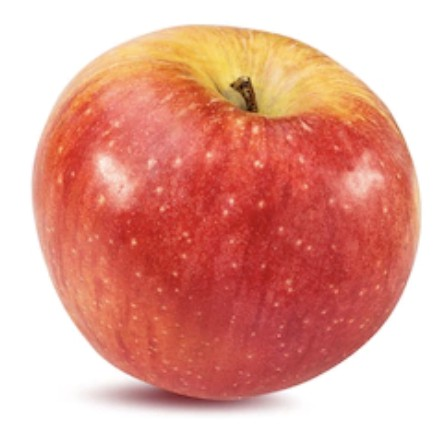fresh_apple: (32, 27, 420, 399)
